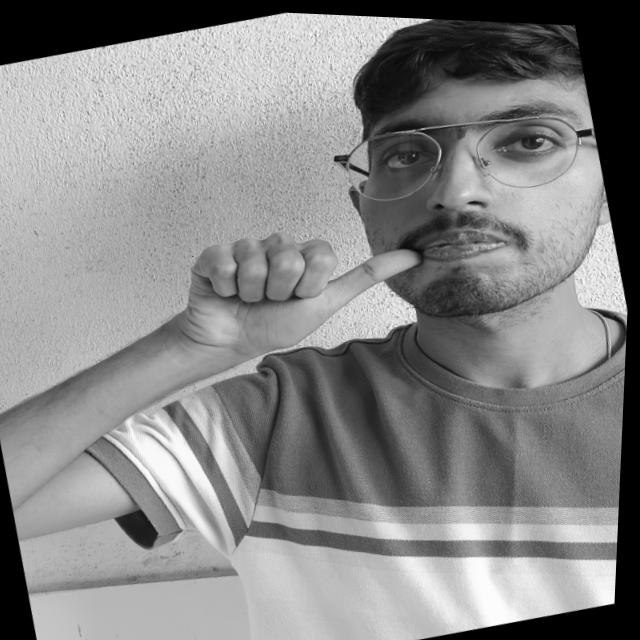Drink: (144, 174, 451, 395)
